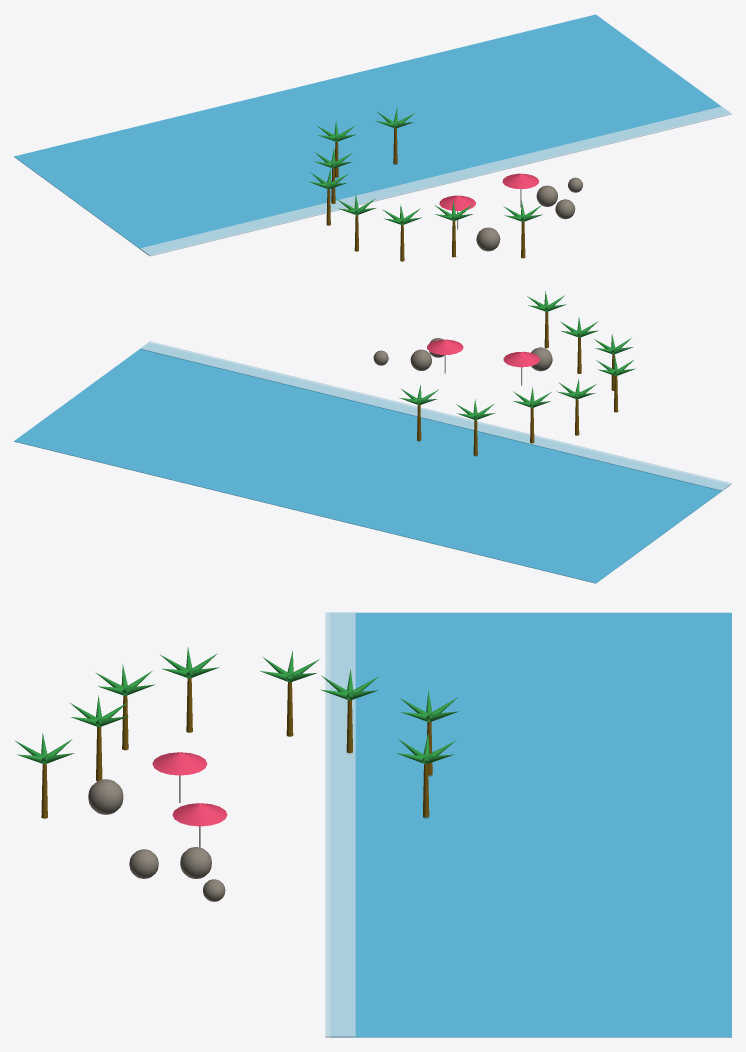
3 views of the same model, one above another, from view 1: azimuth 30°, elevation 25°; view 2: azimuth 150°, elevation 25°; view 3: azimuth 270°, elevation 25° (orthographic). The views are drawn at different scales.
Parts seen in each view (by area): view 1: sea, sea_foam, umbrella_1, umbrella_0, rock_3, palm_0, palm_2, palm_4, palm_7, palm_3, palm_1; view 2: sea, sea_foam, umbrella_1, umbrella_0; view 3: sea, sea_foam, umbrella_0, umbrella_1, rock_3, palm_3, palm_0, palm_4, palm_7, palm_1, palm_2, palm_5 (+3 smaller).
Part boxes in pixels (x1,y1,x2,y2): sea: [14, 14, 721, 254]; sea_foam: [140, 106, 731, 256]; umbrella_1: [502, 173, 538, 207]; umbrella_0: [439, 195, 475, 229]; rock_3: [476, 227, 500, 251]; palm_0: [503, 200, 542, 258]; palm_2: [382, 204, 421, 261]; palm_4: [309, 168, 348, 225]; palm_7: [375, 108, 414, 164]; palm_3: [337, 194, 375, 251]; palm_1: [435, 200, 472, 257]; sea: [14, 349, 729, 583]; sea_foam: [140, 341, 731, 490]; umbrella_1: [427, 339, 463, 373]; umbrella_0: [503, 351, 539, 385]; sea: [330, 612, 731, 1037]; sea_foam: [325, 612, 355, 1037]; umbrella_0: [152, 752, 207, 802]; umbrella_1: [172, 803, 227, 847]; rock_3: [88, 779, 123, 814]; palm_3: [160, 647, 219, 732]; palm_0: [15, 733, 74, 818]; palm_4: [260, 651, 319, 736]; palm_7: [396, 733, 456, 818]; palm_1: [70, 695, 128, 781]; palm_2: [95, 664, 155, 750]; palm_5: [320, 669, 378, 753].
Size of the model in its own units: 40 by 3.4 by 28.61.
